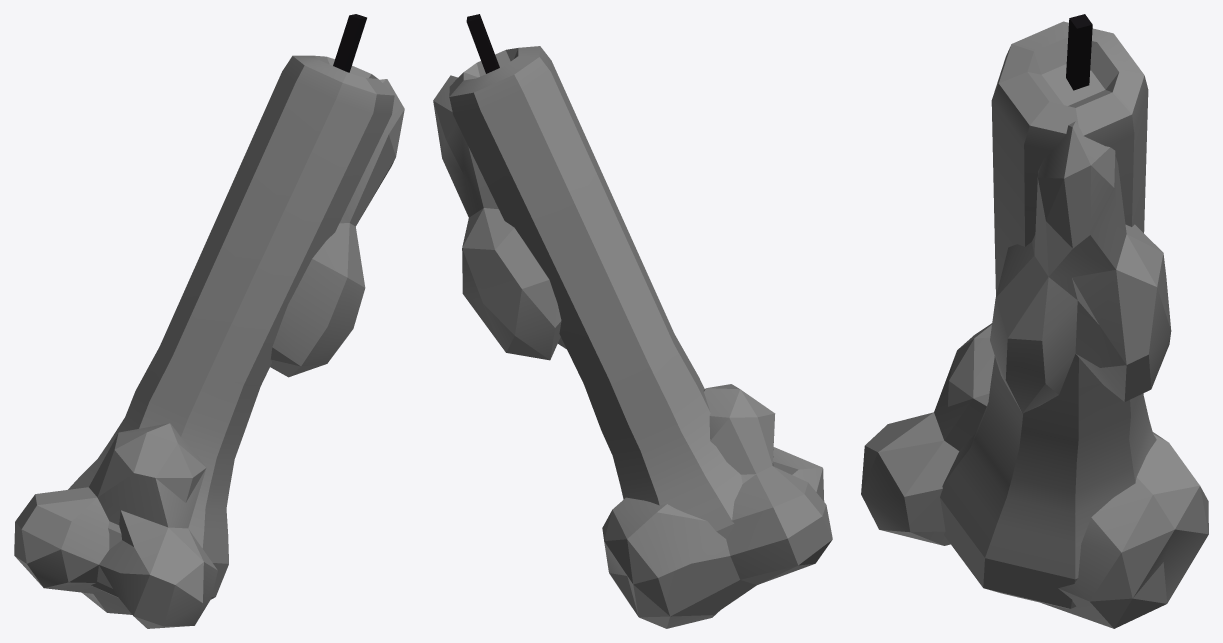
File: ea_candle_01c_pre_4_lev1.glb
The picture shows the model from 3 angles, left to right: view 1: azimuth 30°, elevation 25°; view 2: azimuth 150°, elevation 25°; view 3: azimuth 270°, elevation 25°; orthographic projection. The views are drawn at different scales.
Parts seen in each view (by area): view 1: ea_candle_01c_pre_4_lev1; view 2: ea_candle_01c_pre_4_lev1; view 3: ea_candle_01c_pre_4_lev1.
Boxes of the visible parts, bbox=[...] form: ea_candle_01c_pre_4_lev1: bbox=[14, 14, 404, 628]; ea_candle_01c_pre_4_lev1: bbox=[433, 14, 832, 628]; ea_candle_01c_pre_4_lev1: bbox=[861, 14, 1208, 628].
Bounding box in the file's own units: 0.6956 × 0.939 × 0.404.
1 material, 1 textured.
